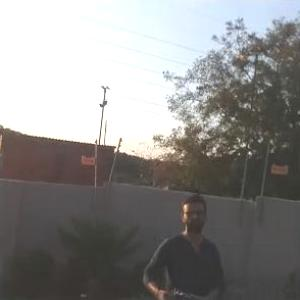follow: (140, 185, 234, 299)
